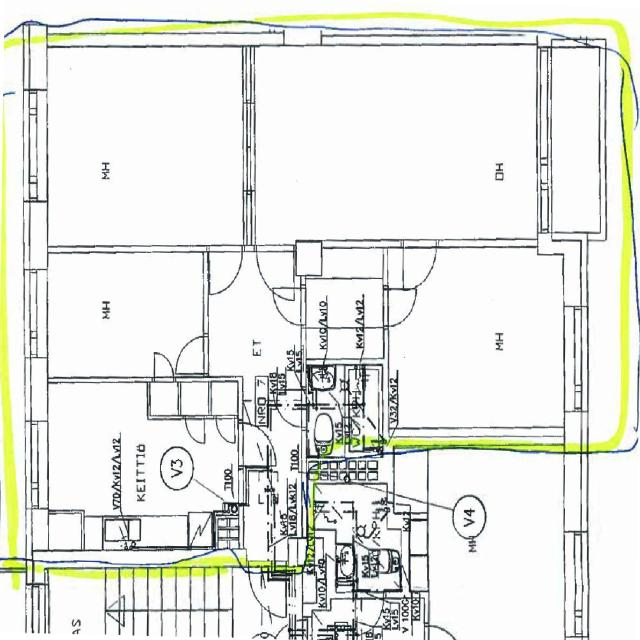door: (256, 242, 296, 294), (206, 244, 245, 296), (402, 244, 437, 292), (272, 285, 306, 327), (174, 334, 207, 377), (386, 286, 417, 328), (150, 349, 176, 382), (215, 414, 238, 446), (184, 416, 208, 446), (277, 405, 297, 426)
window: (438, 233, 538, 256)
zone: (249, 42, 550, 248), (35, 44, 248, 253), (395, 245, 576, 433), (31, 378, 216, 549), (398, 452, 554, 638), (42, 250, 206, 380), (534, 44, 615, 240), (204, 248, 304, 376), (301, 248, 388, 364), (309, 477, 393, 542), (47, 569, 107, 635), (358, 590, 413, 636), (354, 546, 406, 586), (45, 512, 85, 552), (147, 381, 180, 418), (209, 380, 239, 417)
